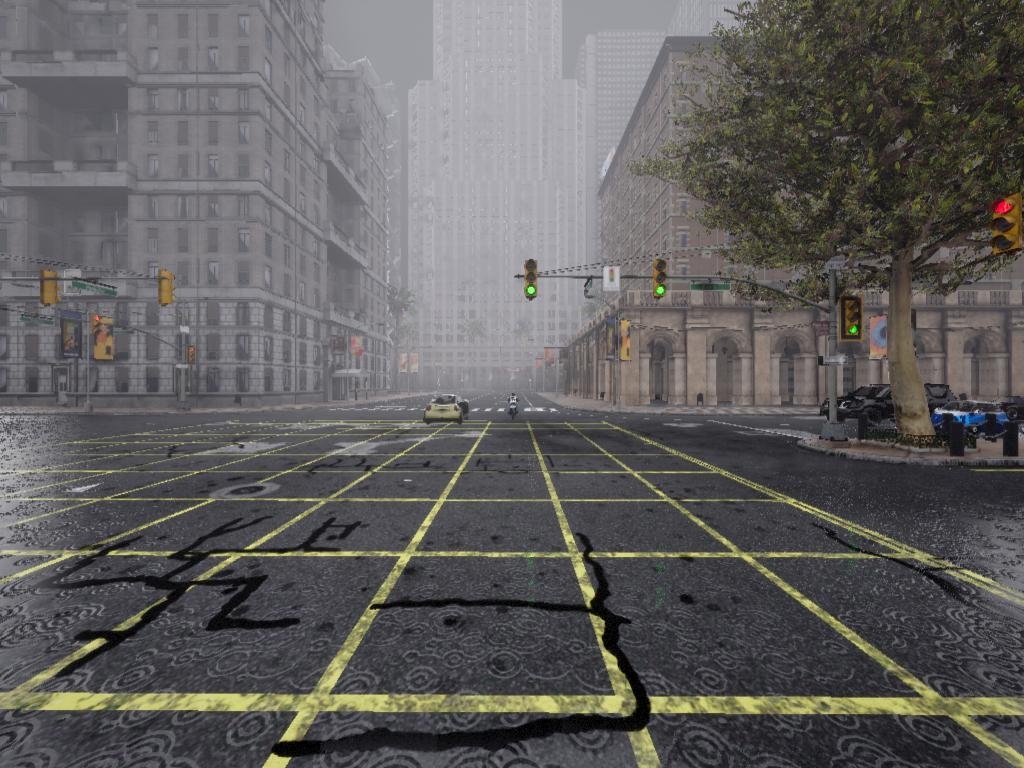traffic_light: (989, 197, 1023, 256), (841, 298, 862, 341), (40, 273, 62, 307), (158, 272, 178, 307), (653, 261, 669, 300), (526, 261, 541, 301), (189, 348, 198, 365)
